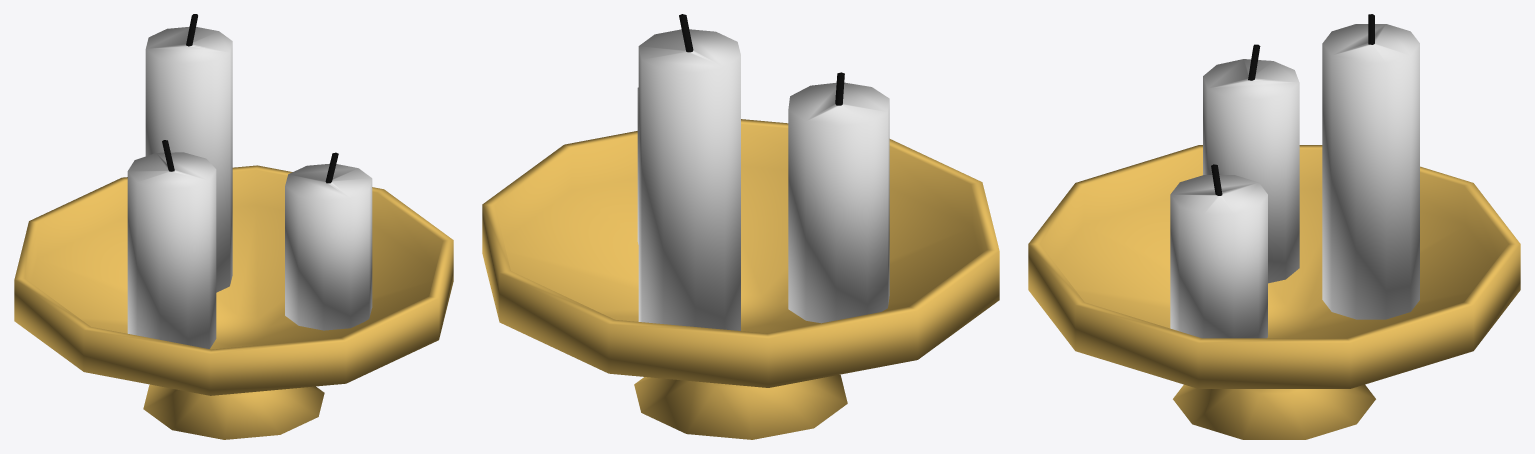
Rendered from Lilin 1,1.fbx.
3 renders of one model, left to right at view 1: azimuth 30°, elevation 25°; view 2: azimuth 150°, elevation 25°; view 3: azimuth 270°, elevation 25°, orthographic. The views are drawn at different scales.
Visible parts, largest first — view 1: Cylinder.027, Cylinder.024, Cylinder.025, Cylinder.022; view 2: Cylinder.027, Cylinder.022, Cylinder.024; view 3: Cylinder.027, Cylinder.022, Cylinder.025, Cylinder.024.
Boxes of the visible parts, left/top/right/bottom form: Cylinder.027: left=14, top=165, right=453, bottom=439; Cylinder.024: left=127, top=140, right=216, bottom=348; Cylinder.025: left=285, top=152, right=372, bottom=330; Cylinder.022: left=145, top=14, right=232, bottom=292; Cylinder.027: left=482, top=119, right=999, bottom=439; Cylinder.022: left=638, top=14, right=740, bottom=330; Cylinder.024: left=788, top=72, right=889, bottom=323; Cylinder.027: left=1028, top=145, right=1520, bottom=439; Cylinder.022: left=1322, top=14, right=1419, bottom=319; Cylinder.025: left=1170, top=164, right=1267, bottom=338; Cylinder.024: left=1203, top=44, right=1299, bottom=283.
Size of the model in its own units: 39.64 by 36.09 by 41.68.
